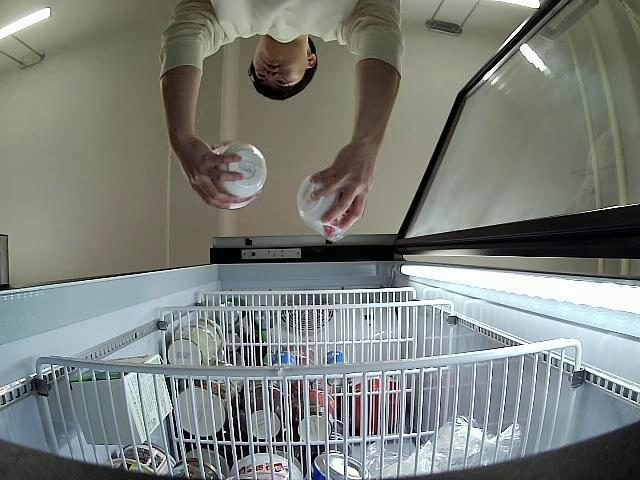09_yukGaeJang: (297, 172, 350, 246), (212, 142, 268, 210)
